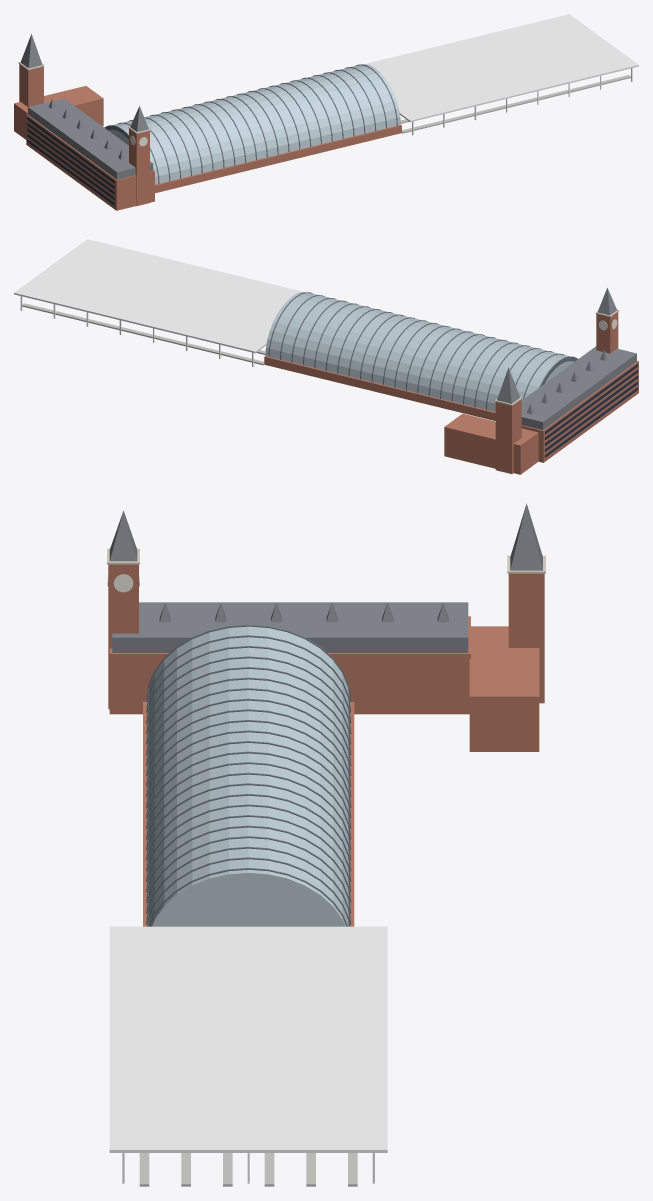
File: terminal_st-pancras.glb
3 views of the same model, one above another, from view 1: azimuth 30°, elevation 25°; view 2: azimuth 150°, elevation 25°; view 3: azimuth 270°, elevation 25° (orthographic). The views are drawn at different scales.
Visible parts, largest first — view 1: st-pancras; view 2: st-pancras; view 3: st-pancras.
Part boxes in pixels (x1,y1,x2,y2): st-pancras: [14, 14, 638, 210]; st-pancras: [14, 239, 638, 474]; st-pancras: [107, 503, 545, 1186].
Size of the model in its own units: 434 by 76.4 by 158.
